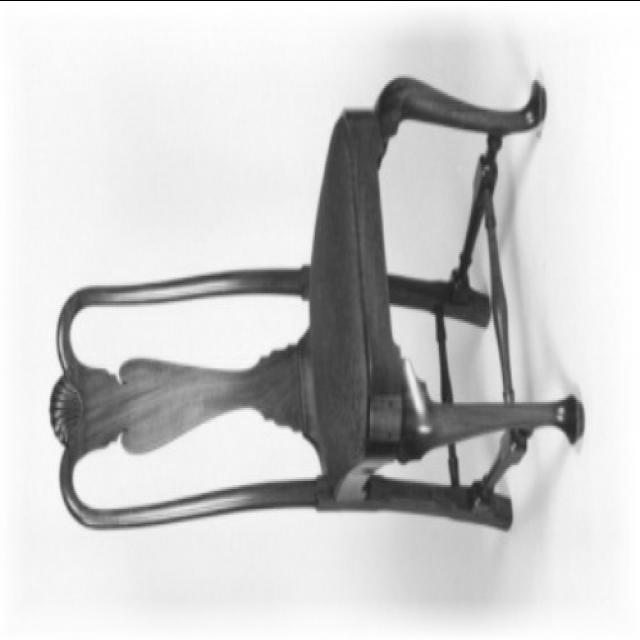chair: (46, 70, 598, 532)
